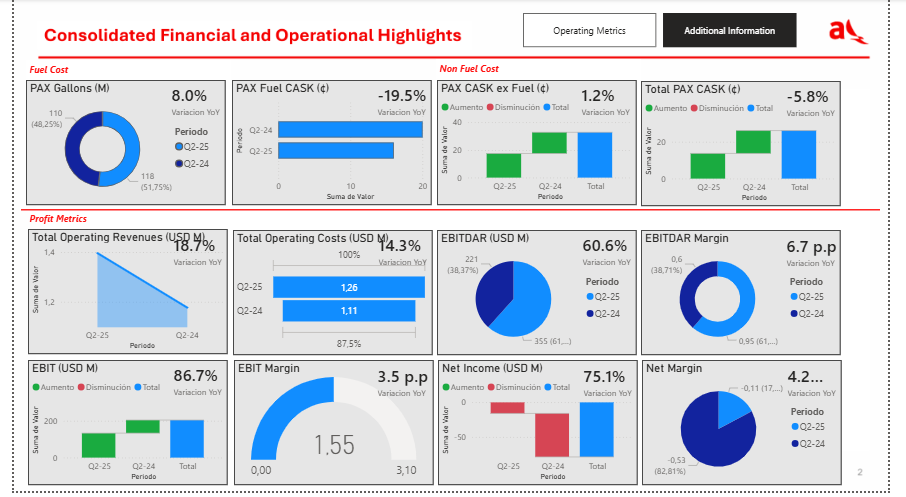

The dashboard page shown, as its layout file describes it:
{"tool":"powerbi","page":{"name":"Additional Information","canvas":[1280,720],"ordinal":1},"visuals":[{"type":"image","box":[0,0,1279.7,720],"z":0},{"type":"donutChart","title":"PAX Gallons (M)","fields":{"Category":["Operating Metrics.Periodo"],"Y":["Sum(Operating Metrics.Valor)"]},"box":[18,117.9,291.8,182.9],"z":1000},{"type":"cardVisual","title":"PAX Departures","fields":{"Data":["Min(Operating Metrics.Variacion)"]},"box":[213.9,110.2,107.1,75.6],"z":2000},{"type":"barChart","title":"PAX Fuel CASK (¢)","fields":{"Category":["Operating Metrics.Periodo"],"Y":["Sum(Operating Metrics.Valor)"]},"box":[319.7,118.1,291.8,182.9],"z":3000},{"type":"cardVisual","title":"PAX Departures","fields":{"Data":["Min(Operating Metrics.Variacion)"]},"box":[515.6,110.3,107.1,75.6],"z":4000},{"type":"waterfallChart","title":"PAX CASK ex Fuel (¢)","fields":{"Category":["Operating Metrics.Periodo"],"Y":["Sum(Operating Metrics.Valor)"]},"box":[618.4,118.1,291.8,182.9],"z":5000},{"type":"cardVisual","title":"PAX Departures","fields":{"Data":["Min(Operating Metrics.Variacion)"]},"box":[814.3,110.3,107.1,75.6],"z":6000},{"type":"waterfallChart","title":"Total PAX CASK (¢)","fields":{"Category":["Operating Metrics.Periodo"],"Y":["Sum(Operating Metrics.Valor)"]},"box":[917.6,119.5,291.8,182.9],"z":7000},{"type":"cardVisual","title":"PAX Departures","fields":{"Data":["Min(Operating Metrics.Variacion)"]},"box":[1113.4,111.7,107.1,75.6],"z":8000},{"type":"stackedAreaChart","title":"Total Operating Revenues (USD M)","fields":{"Category":["Operating Metrics.Periodo"],"Y":["Sum(Operating Metrics.Valor)"]},"box":[20.1,337,291.8,182.9],"z":9000},{"type":"cardVisual","title":"PAX Departures","fields":{"Data":["Min(Operating Metrics.Variacion)"]},"box":[216,329.2,107.1,75.6],"z":10000},{"type":"funnel","title":"Total Operating Costs (USD M)","fields":{"Category":["Operating Metrics.Periodo"],"Y":["Sum(Operating Metrics.Valor)"]},"box":[320.6,337.5,291.8,182.9],"z":11000},{"type":"cardVisual","title":"PAX Departures","fields":{"Data":["Min(Operating Metrics.Variacion)"]},"box":[516.5,329.8,107.1,75.6],"z":12000},{"type":"shape","box":[10,301.8,1257,14],"z":13000},{"type":"textbox","box":[18,88.9,299.8,29],"z":14000},{"type":"waterfallChart","title":"EBIT (USD M)","fields":{"Category":["Operating Metrics.Periodo"],"Y":["Sum(Operating Metrics.Valor)"]},"box":[21,527.6,291.8,182.9],"z":16000},{"type":"cardVisual","title":"PAX Departures","fields":{"Data":["Min(Operating Metrics.Variacion)"]},"box":[216.9,519.8,107.1,75.6],"z":17000},{"type":"gauge","title":"EBIT Margin","fields":{"Y":["Sum(Operating Metrics.Valor)"]},"box":[321.7,527.6,291.8,182.9],"z":18000},{"type":"cardVisual","title":"PAX Departures","fields":{"Data":["Min(Operating Metrics.Variacion)"]},"box":[515.8,520.3,108.5,75.3],"z":19000},{"type":"waterfallChart","title":"Net Income (USD M)","fields":{"Category":["Operating Metrics.Periodo"],"Y":["Sum(Operating Metrics.Valor)"]},"box":[620.8,528.2,291.8,182.9],"z":20000},{"type":"cardVisual","title":"PAX Departures","fields":{"Data":["Min(Operating Metrics.Variacion)"]},"box":[816.7,520.4,107.1,75.6],"z":21000},{"type":"pieChart","title":"Net Margin","fields":{"Category":["Operating Metrics.Periodo"],"Y":["Sum(Operating Metrics.Valor)"]},"box":[919.6,528.2,291.8,182.9],"z":22000},{"type":"cardVisual","title":"PAX Departures","fields":{"Data":["Min(Operating Metrics.Variacion)"]},"box":[1115.5,520.4,107.1,75.6],"z":23000},{"type":"pageNavigator","box":[744.2,20.6,400.3,50.1],"z":23001},{"type":"textbox","box":[618,87.9,299.6,29.6],"z":23002},{"type":"pieChart","title":"EBITDAR (USD M)","fields":{"Category":["Operating Metrics.Periodo"],"Y":["Sum(Operating Metrics.Valor)"]},"box":[619.4,337.5,291.8,182.9],"z":23003},{"type":"cardVisual","title":"PAX Departures","fields":{"Data":["Min(Operating Metrics.Variacion)"]},"box":[815.3,329.8,107.1,75.6],"z":23004},{"type":"donutChart","title":"EBITDAR Margin","fields":{"Category":["Operating Metrics.Periodo"],"Y":["Sum(Operating Metrics.Valor)"]},"box":[918.2,337.5,291.8,182.9],"z":23005},{"type":"cardVisual","title":"PAX Departures","fields":{"Data":["Min(Operating Metrics.Variacion)"]},"box":[1114.1,330.1,108.5,75.3],"z":23006},{"type":"textbox","box":[18,306.8,298.8,30],"z":23007}]}

Visuals, with their boxes in screenshot pixels (x1, y1, x2, y2), scaled from the page's 1280x720 canvas onto the 906x497 screenshot:
image: left=0, top=0, right=905, bottom=496
"PAX Gallons (M)" donutChart: left=13, top=81, right=219, bottom=208
"PAX Departures" cardVisual: left=151, top=76, right=227, bottom=128
"PAX Fuel CASK (¢)" barChart: left=226, top=82, right=433, bottom=208
"PAX Departures" cardVisual: left=365, top=76, right=441, bottom=128
"PAX CASK ex Fuel (¢)" waterfallChart: left=438, top=82, right=644, bottom=208
"PAX Departures" cardVisual: left=576, top=76, right=652, bottom=128
"Total PAX CASK (¢)" waterfallChart: left=649, top=82, right=856, bottom=209
"PAX Departures" cardVisual: left=788, top=77, right=864, bottom=129
"Total Operating Revenues (USD M)" stackedAreaChart: left=14, top=233, right=221, bottom=359
"PAX Departures" cardVisual: left=153, top=227, right=229, bottom=279
"Total Operating Costs (USD M)" funnel: left=227, top=233, right=433, bottom=359
"PAX Departures" cardVisual: left=366, top=228, right=441, bottom=280
shape: left=7, top=208, right=897, bottom=218
textbox: left=13, top=61, right=225, bottom=81
"EBIT (USD M)" waterfallChart: left=15, top=364, right=221, bottom=490
"PAX Departures" cardVisual: left=154, top=359, right=229, bottom=411
"EBIT Margin" gauge: left=228, top=364, right=434, bottom=490
"PAX Departures" cardVisual: left=365, top=359, right=442, bottom=411
"Net Income (USD M)" waterfallChart: left=439, top=365, right=646, bottom=491
"PAX Departures" cardVisual: left=578, top=359, right=654, bottom=411
"Net Margin" pieChart: left=651, top=365, right=857, bottom=491
"PAX Departures" cardVisual: left=790, top=359, right=865, bottom=411
pageNavigator: left=527, top=14, right=810, bottom=49
textbox: left=437, top=61, right=649, bottom=81
"EBITDAR (USD M)" pieChart: left=438, top=233, right=645, bottom=359
"PAX Departures" cardVisual: left=577, top=228, right=653, bottom=280
"EBITDAR Margin" donutChart: left=650, top=233, right=856, bottom=359
"PAX Departures" cardVisual: left=789, top=228, right=865, bottom=280
textbox: left=13, top=212, right=224, bottom=232
